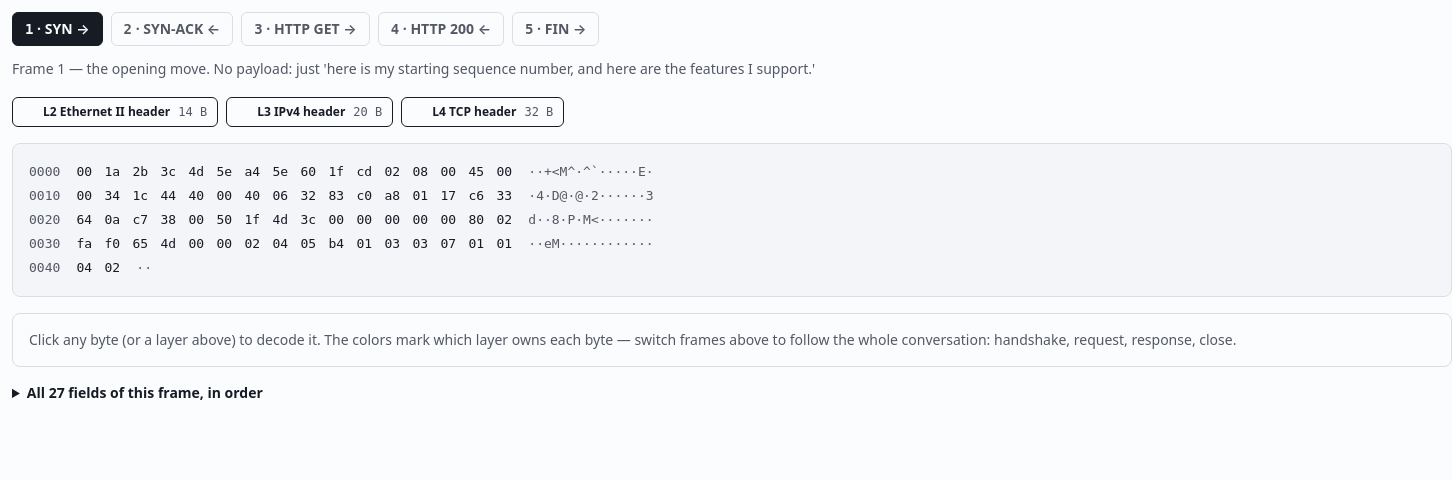
Test case: PacketWalkthrough › the layer legend jumps to that layer's first field
Click the button "L4 TCP header 32 B": click(483, 112) 401,97 -> 564,127
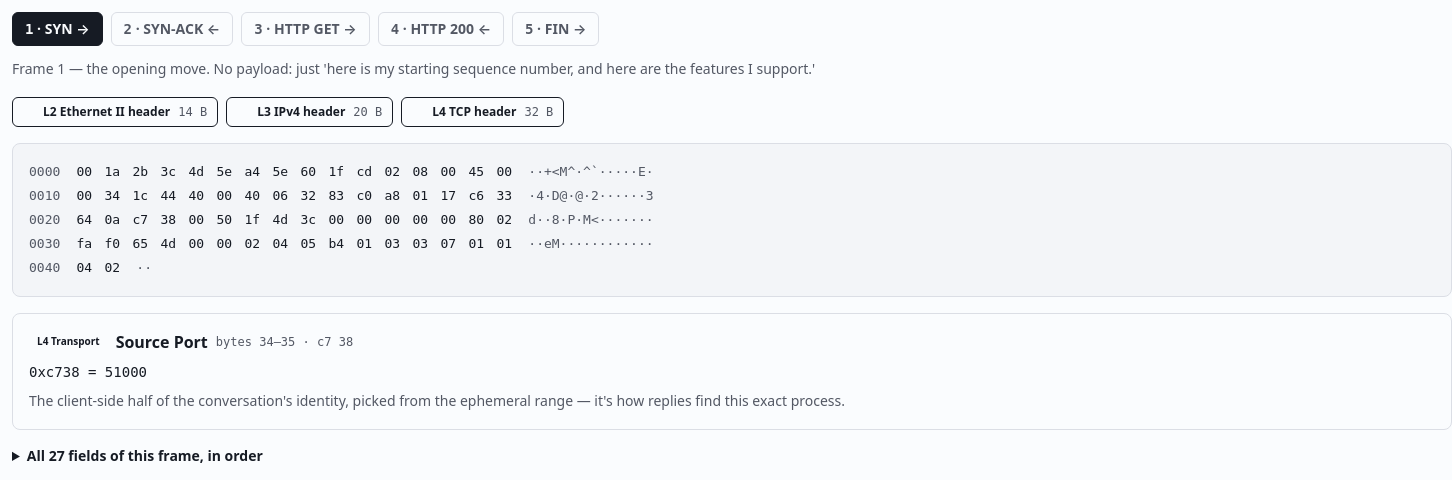
expect the text "Source Port" is shown: met, box 116,330 -> 208,354
expect the text "0xc738 = 51000" is shown: met, box 29,364 -> 147,380
